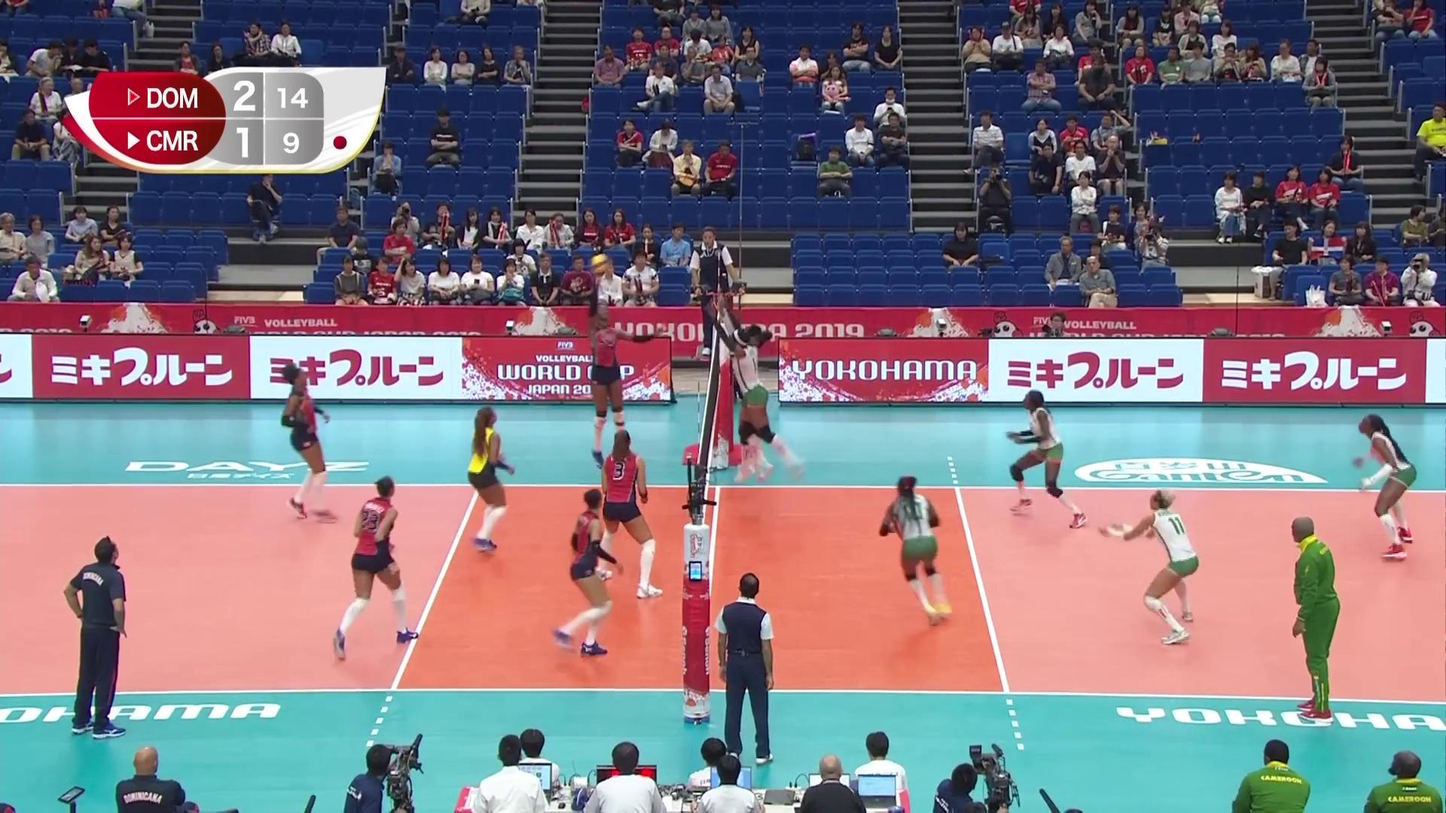player: (332, 474, 424, 664), (580, 429, 664, 604), (1111, 490, 1204, 645), (722, 312, 804, 478), (553, 488, 625, 662), (1003, 391, 1091, 528), (884, 476, 959, 630), (1353, 414, 1424, 564), (586, 284, 640, 461), (279, 364, 336, 523), (460, 405, 519, 557), (733, 326, 776, 479)
refree: (715, 569, 780, 766), (691, 226, 738, 352)
